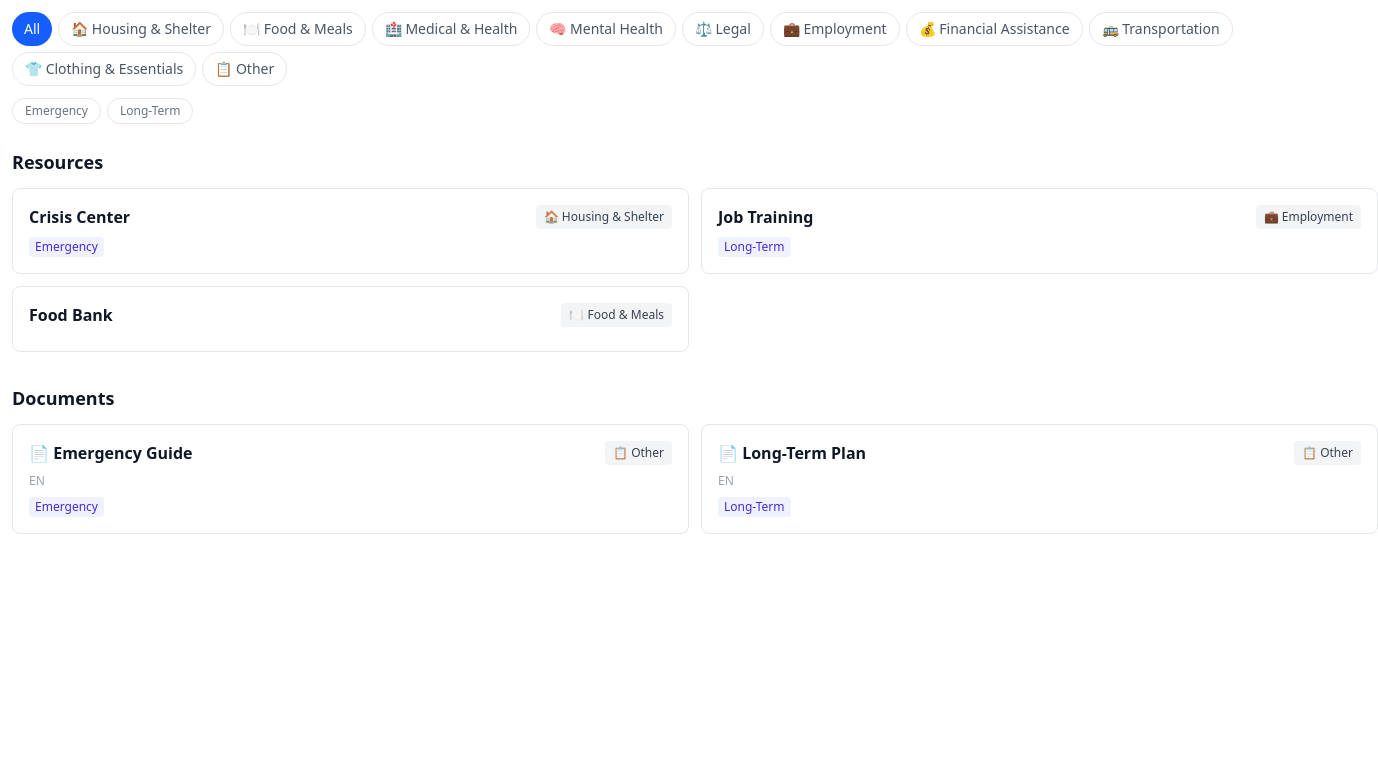
Test: PublicHome — tag filter › deselecting a tag pill restores unfiltered results
Click the button "Emergency" at (56, 111), box [12,98,101,124]
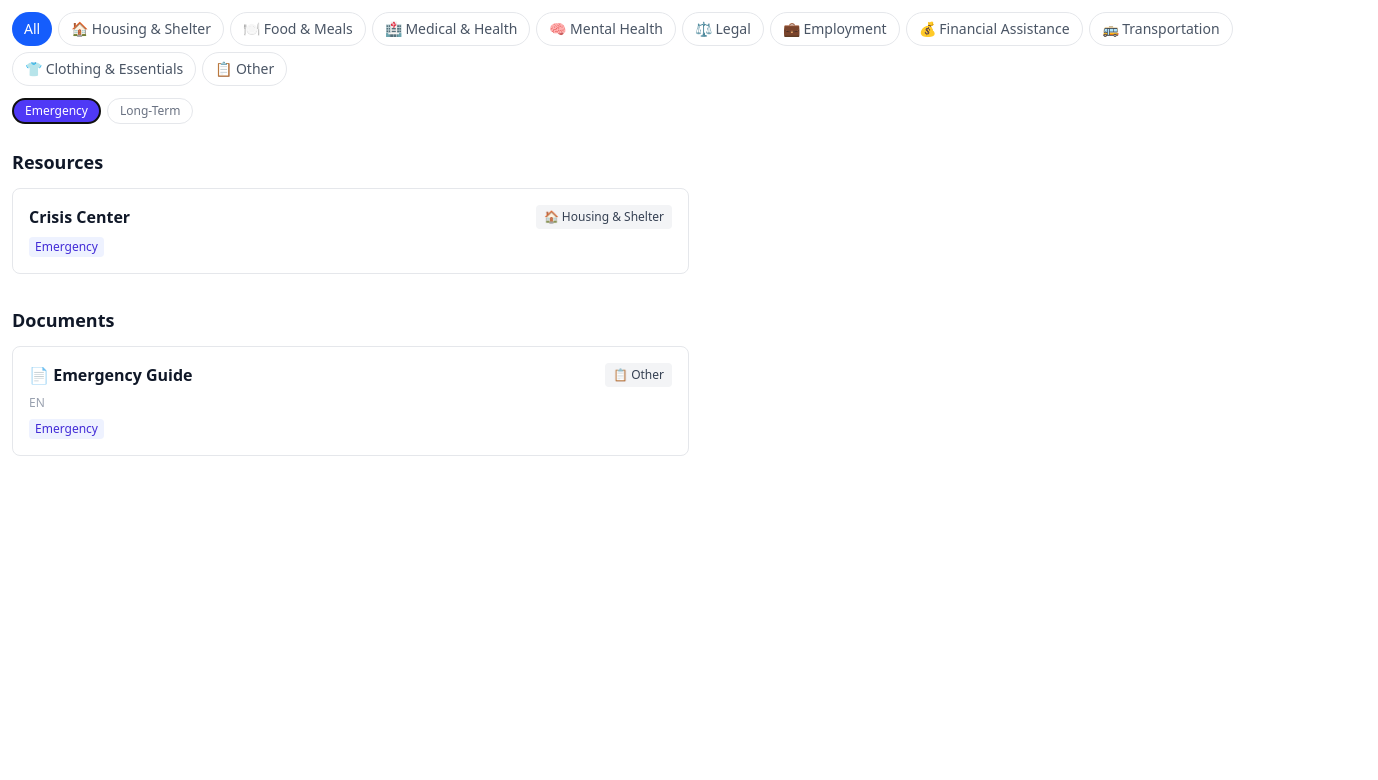
Expected: the link "Job Training" is gone
Click the button "Emergency" at (56, 111), box [12,98,101,124]
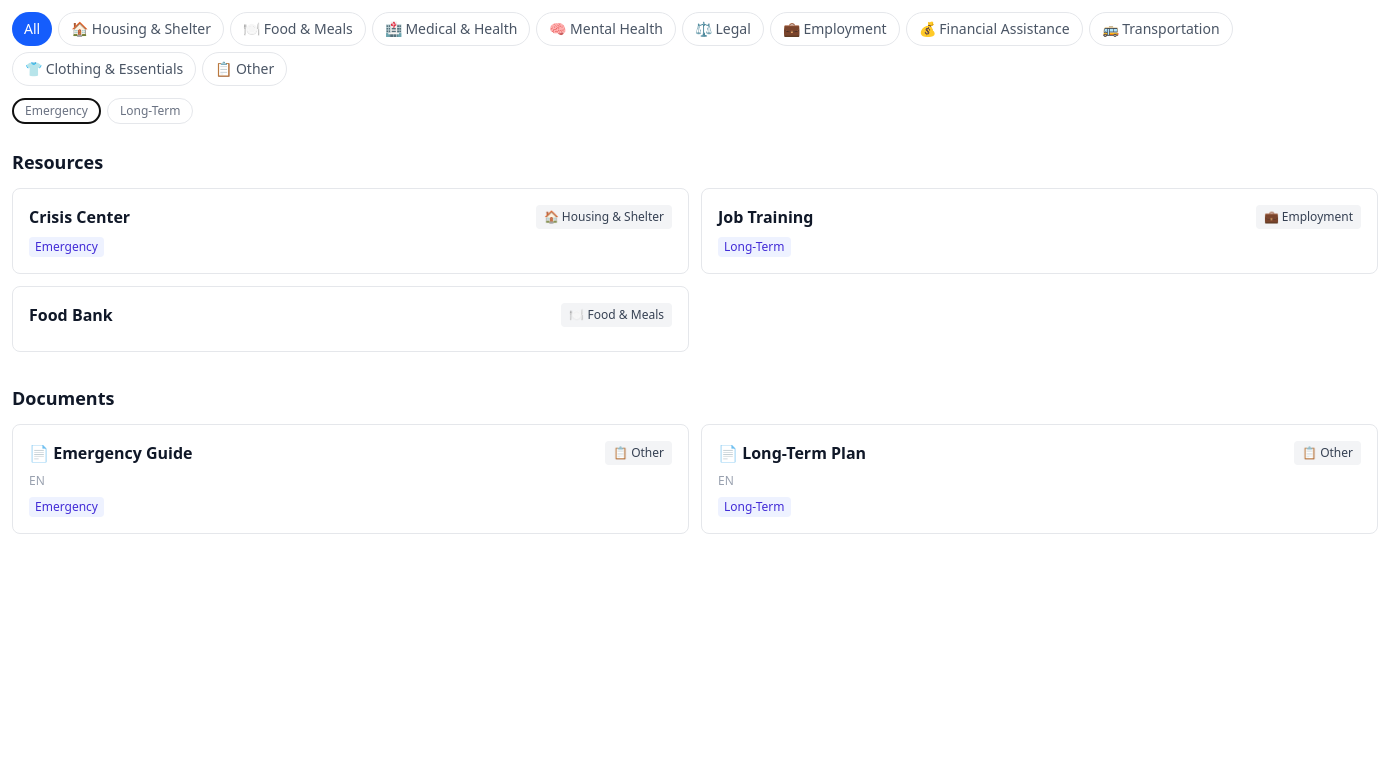
Expected: the heading "Crisis Center" is shown, [29,205,130,229]
Expected: the heading "Job Training" is shown, [718,205,814,229]
Expected: the heading "Food Bank" is shown, [29,303,113,327]
